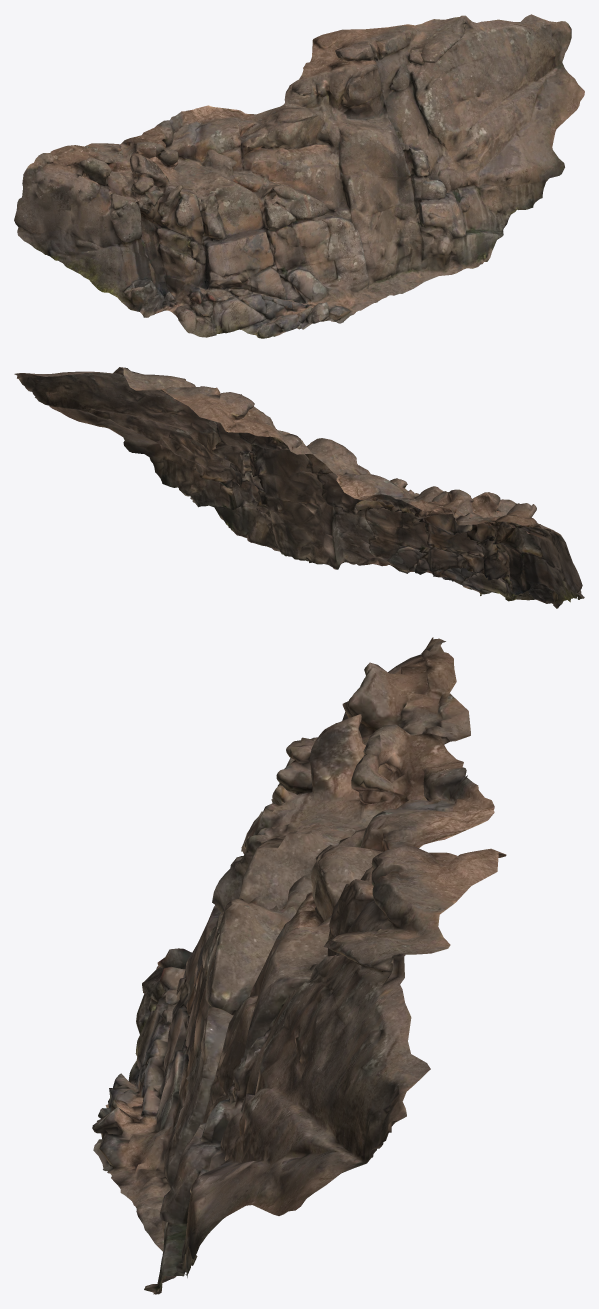
The model's file is namaqualand_cliff_02.glb.
3 views of the same model, one above another, from view 1: azimuth 30°, elevation 25°; view 2: azimuth 150°, elevation 25°; view 3: azimuth 270°, elevation 25° (orthographic). The views are drawn at different scales.
Visible parts, largest first — view 1: drone_rock_02_LOD0; view 2: drone_rock_02_LOD0; view 3: drone_rock_02_LOD0.
Part boxes in pixels (bbox=[...]): drone_rock_02_LOD0: bbox=[14, 14, 584, 338]; drone_rock_02_LOD0: bbox=[14, 367, 584, 608]; drone_rock_02_LOD0: bbox=[92, 637, 506, 1294].
Size of the model in its own units: 20.23 by 7.18 by 6.59.
Materials: 1 (1 with a texture image).
